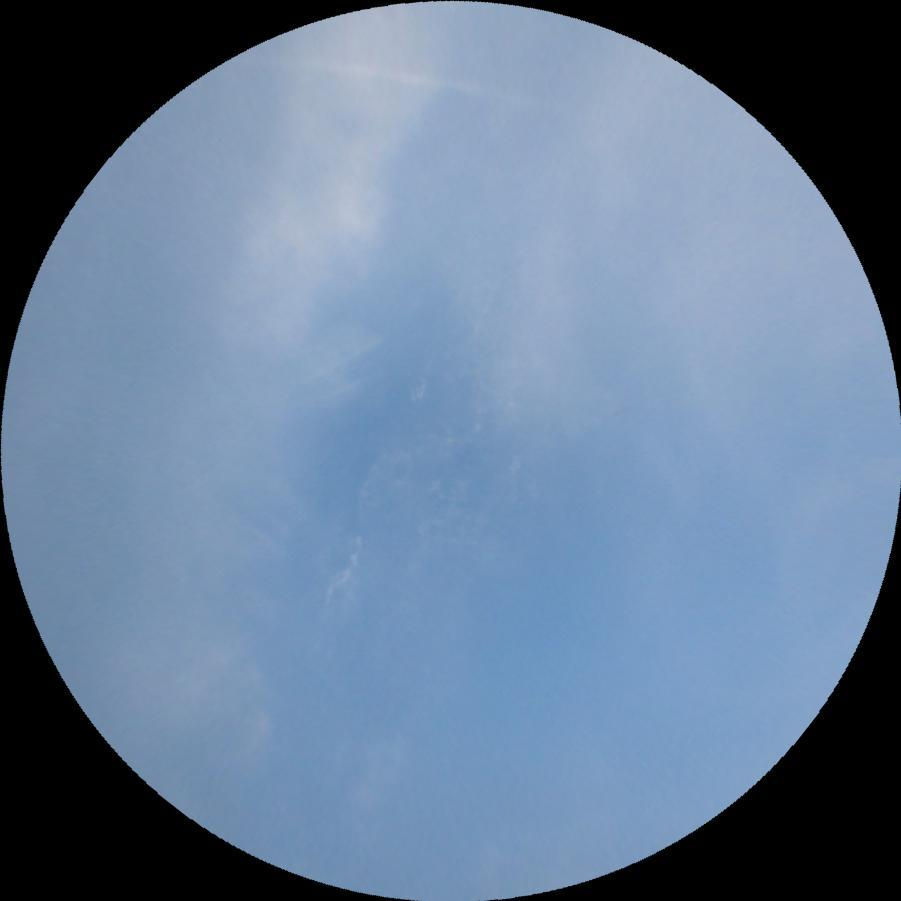contrail veryold: (287, 53, 558, 106)
